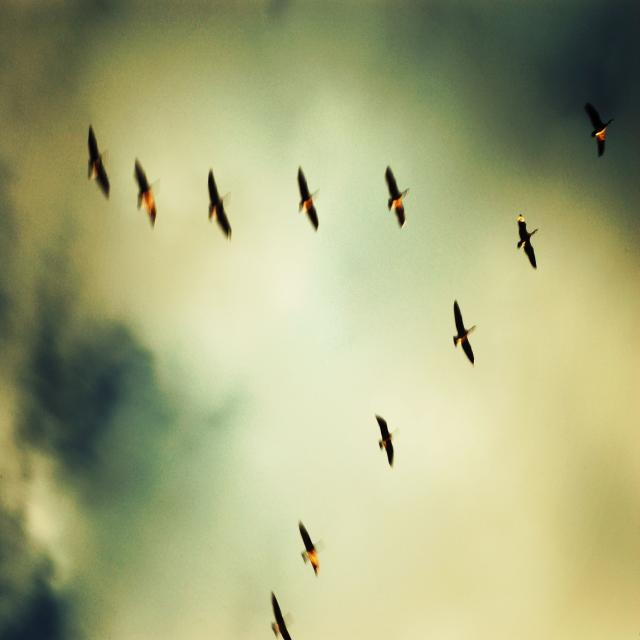bird: (78, 125, 116, 195), (206, 168, 233, 236), (296, 166, 322, 232), (451, 298, 476, 366), (266, 592, 301, 639), (387, 163, 411, 230), (297, 520, 324, 578), (587, 104, 615, 159), (516, 219, 542, 270), (374, 414, 398, 468), (138, 169, 158, 228), (134, 157, 154, 209)
